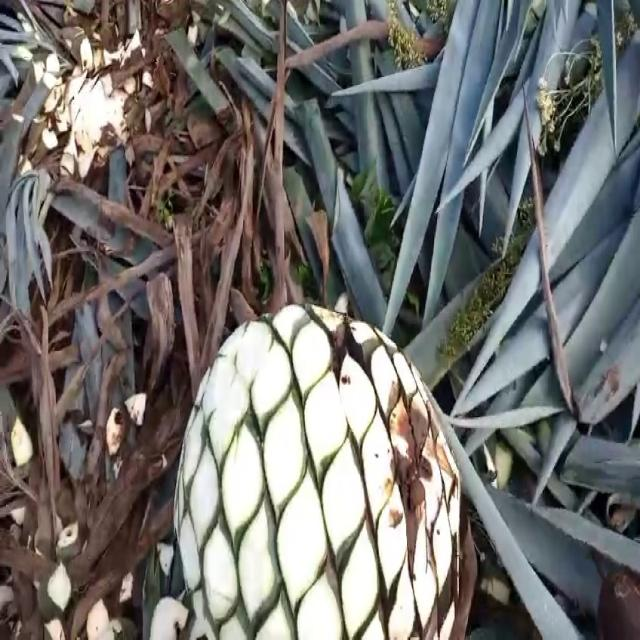agave: (172, 300, 470, 640)
